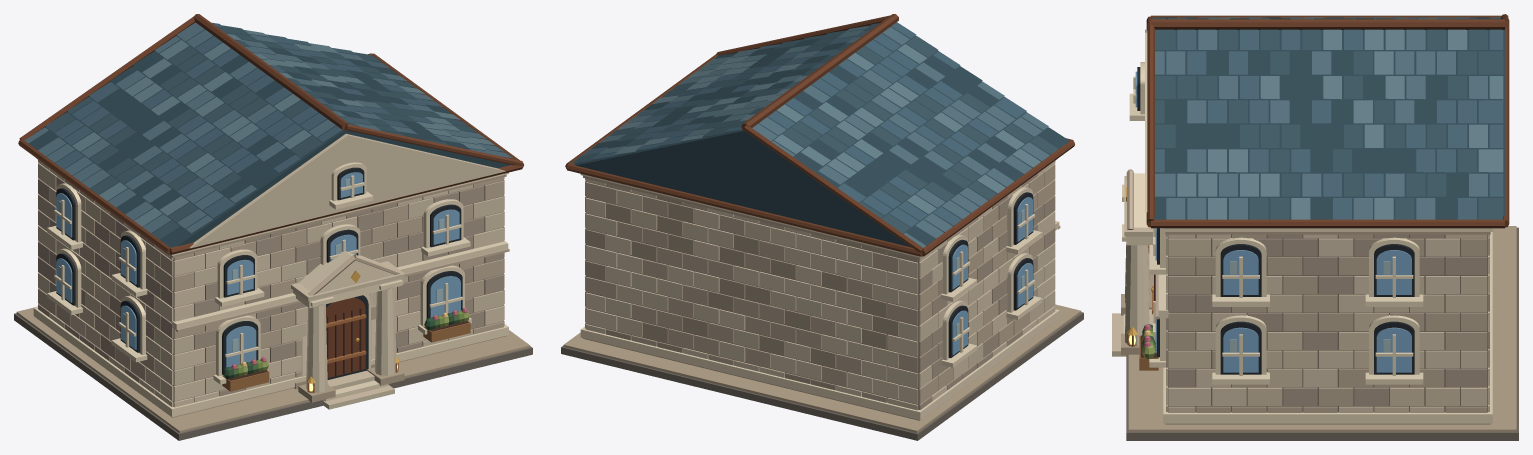
Rendered from noble-nivel-1.glb.
The picture shows the model from 3 angles, left to right: view 1: azimuth 30°, elevation 25°; view 2: azimuth 150°, elevation 25°; view 3: azimuth 270°, elevation 25°; orthographic projection. The views are drawn at different scales.
Parts seen in each view (by area): view 1: Casa nobre 01 #e6d7ba, Casa nobre 01 #d3c3a9, Casa nobre 01 #344d58, Casa nobre 01 #c1af99, Casa nobre 01 #ae9d8b, Casa nobre 01 #3f5a65, Casa nobre 01 #55717e, Casa nobre 01 #486574, Casa nobre 01 #70432c, Casa nobre 01 #dac9af, Casa nobre 01 #b4a38a, Casa nobre 01 #637f89 (+7 smaller); view 2: Casa nobre 01 #344d58, Casa nobre 01 #c1af99, Casa nobre 01 #d3c3a9, Casa nobre 01 #dac9af, Casa nobre 01 #ae9d8b, Casa nobre 01 #3f5a65, Casa nobre 01 #55717e, Casa nobre 01 #486574, Casa nobre 01 #e6d7ba, Casa nobre 01 #70432c, Casa nobre 01 #b4a38a, Casa nobre 01 #637f89 (+4 smaller); view 3: Casa nobre 01 #344d58, Casa nobre 01 #e6d7ba, Casa nobre 01 #3f5a65, Casa nobre 01 #c1af99, Casa nobre 01 #b4a38a, Casa nobre 01 #d3c3a9, Casa nobre 01 #486574, Casa nobre 01 #55717e, Casa nobre 01 #70432c, Casa nobre 01 #dac9af, Casa nobre 01 #637f89, Casa nobre 01 #ae9d8b (+5 smaller).
Part boxes in pixels (x1=…): Casa nobre 01 #e6d7ba: x1=33, y1=162, x2=508, y2=416; Casa nobre 01 #d3c3a9: x1=38, y1=133, x2=505, y2=409; Casa nobre 01 #344d58: x1=29, y1=26, x2=510, y2=247; Casa nobre 01 #c1af99: x1=38, y1=177, x2=509, y2=381; Casa nobre 01 #ae9d8b: x1=38, y1=176, x2=504, y2=396; Casa nobre 01 #3f5a65: x1=45, y1=25, x2=477, y2=239; Casa nobre 01 #55717e: x1=24, y1=22, x2=512, y2=233; Casa nobre 01 #486574: x1=55, y1=22, x2=442, y2=217; Casa nobre 01 #70432c: x1=18, y1=14, x2=523, y2=377; Casa nobre 01 #dac9af: x1=38, y1=160, x2=504, y2=407; Casa nobre 01 #b4a38a: x1=16, y1=158, x2=530, y2=433; Casa nobre 01 #637f89: x1=72, y1=30, x2=495, y2=226; Casa nobre 01 #344d58: x1=574, y1=26, x2=1069, y2=247; Casa nobre 01 #c1af99: x1=585, y1=164, x2=1060, y2=403; Casa nobre 01 #d3c3a9: x1=585, y1=178, x2=1055, y2=410; Casa nobre 01 #dac9af: x1=585, y1=160, x2=1055, y2=404; Casa nobre 01 #ae9d8b: x1=585, y1=174, x2=1055, y2=409; Casa nobre 01 #3f5a65: x1=571, y1=23, x2=1058, y2=233; Casa nobre 01 #55717e: x1=598, y1=25, x2=1049, y2=247; Casa nobre 01 #486574: x1=582, y1=22, x2=1026, y2=226; Casa nobre 01 #e6d7ba: x1=580, y1=174, x2=1059, y2=420; Casa nobre 01 #70432c: x1=565, y1=14, x2=1074, y2=256; Casa nobre 01 #b4a38a: x1=563, y1=159, x2=1081, y2=432; Casa nobre 01 #637f89: x1=614, y1=44, x2=1040, y2=214; Casa nobre 01 #344d58: x1=1152, y1=17, x2=1504, y2=219; Casa nobre 01 #e6d7ba: x1=1122, y1=62, x2=1492, y2=423; Casa nobre 01 #3f5a65: x1=1155, y1=17, x2=1503, y2=219; Casa nobre 01 #c1af99: x1=1126, y1=169, x2=1489, y2=412; Casa nobre 01 #b4a38a: x1=1121, y1=226, x2=1516, y2=432; Casa nobre 01 #d3c3a9: x1=1112, y1=29, x2=1489, y2=412; Casa nobre 01 #486574: x1=1155, y1=17, x2=1503, y2=219; Casa nobre 01 #55717e: x1=1153, y1=17, x2=1500, y2=219; Casa nobre 01 #70432c: x1=1146, y1=14, x2=1509, y2=228; Casa nobre 01 #dac9af: x1=1166, y1=234, x2=1489, y2=412; Casa nobre 01 #637f89: x1=1177, y1=17, x2=1503, y2=219; Casa nobre 01 #ae9d8b: x1=1166, y1=234, x2=1489, y2=405.
Size of the model in its own units: 8.42 by 6.02 by 6.98.
